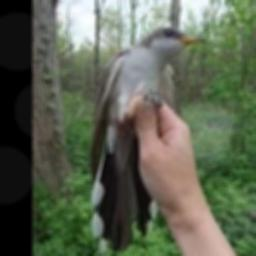Cuckoo: (90, 26, 205, 251)
